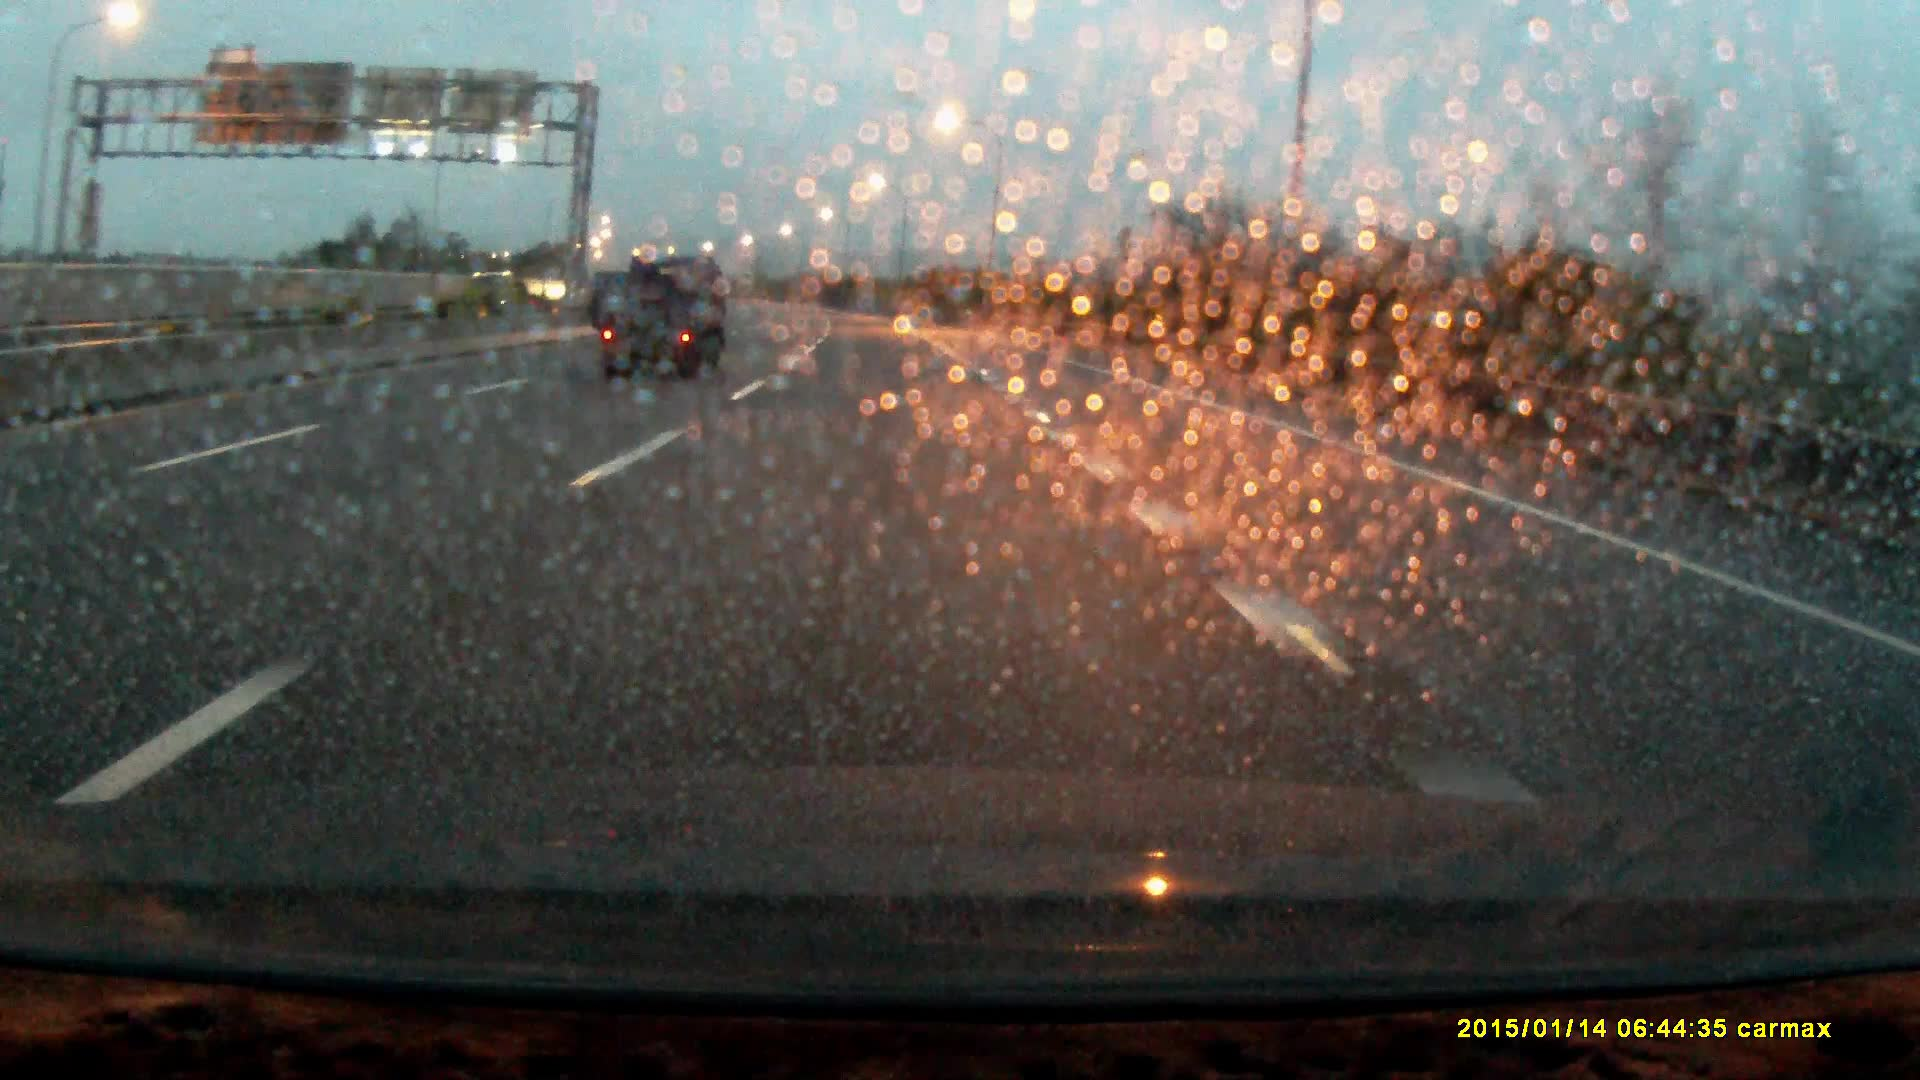vehicle: (597, 255, 732, 378), (471, 270, 560, 309)
